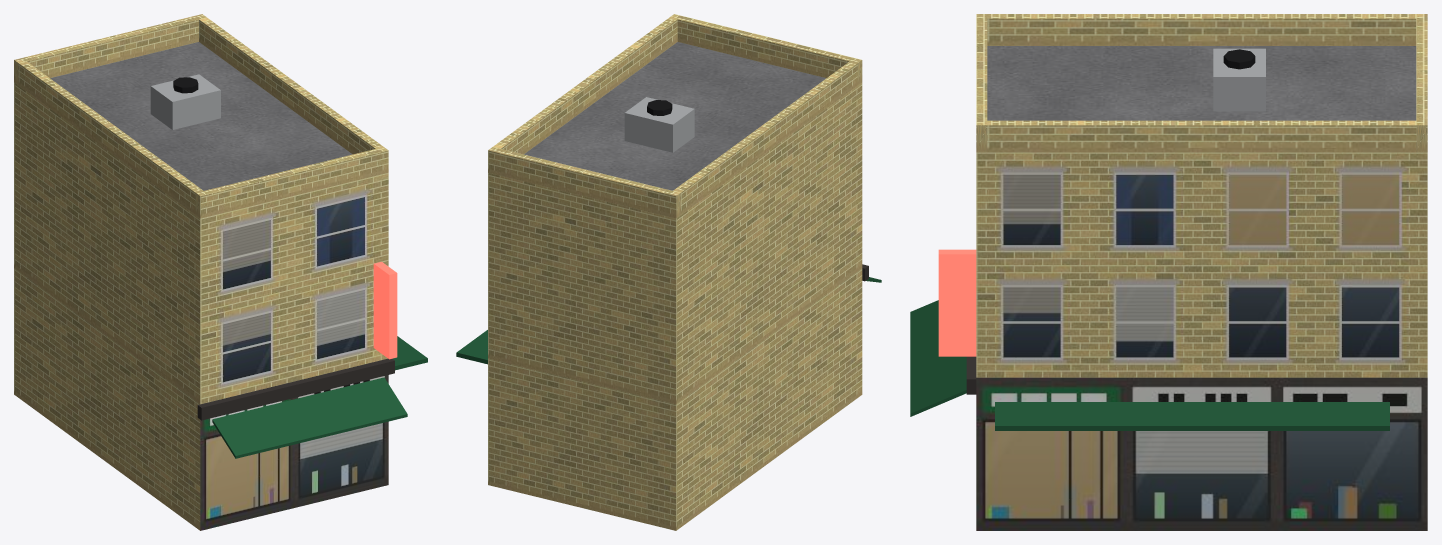
Rendered from 056_bodega_corner.glb.
The picture shows the model from 3 angles, left to right: view 1: azimuth 30°, elevation 25°; view 2: azimuth 150°, elevation 25°; view 3: azimuth 270°, elevation 25°; orthographic projection. The views are drawn at different scales.
Parts seen in each view (by area): view 1: 056_bodega_corner; view 2: 056_bodega_corner; view 3: 056_bodega_corner.
Part boxes in pixels (box(x1,y1,x2,y2)): 056_bodega_corner: box(14, 14, 427, 530); 056_bodega_corner: box(456, 14, 881, 530); 056_bodega_corner: box(910, 14, 1427, 530).
Size of the model in its own units: 8.85 by 12.3 by 13.75.
9 materials, 4 textured.
